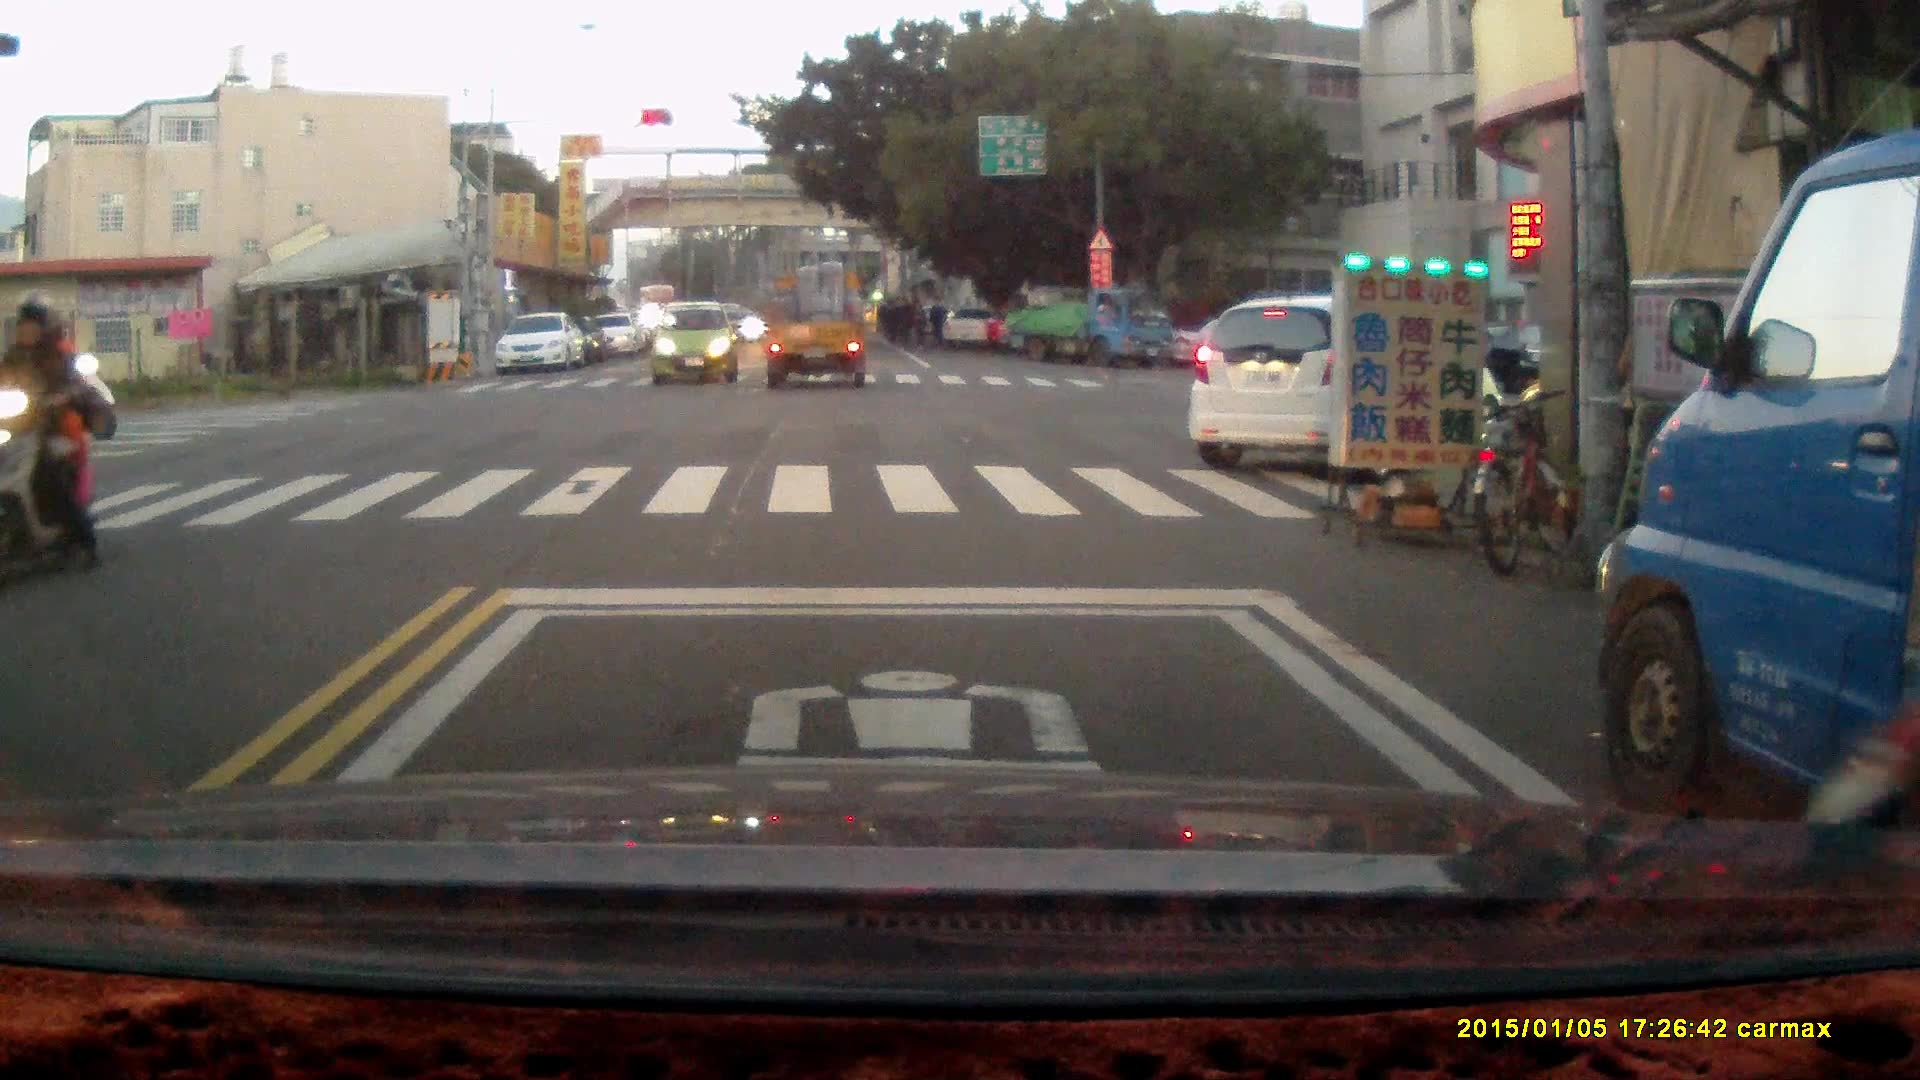rider: (0, 294, 102, 592)
vehicle: (1597, 132, 1920, 909), (1194, 293, 1506, 467), (763, 246, 874, 392), (1002, 284, 1173, 367), (655, 298, 743, 385), (500, 313, 587, 378), (592, 311, 642, 360)
